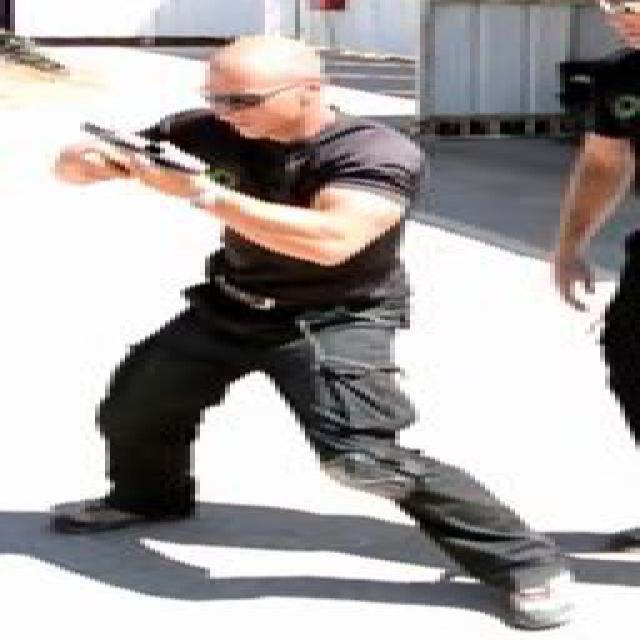weapon: (80, 118, 210, 177)
